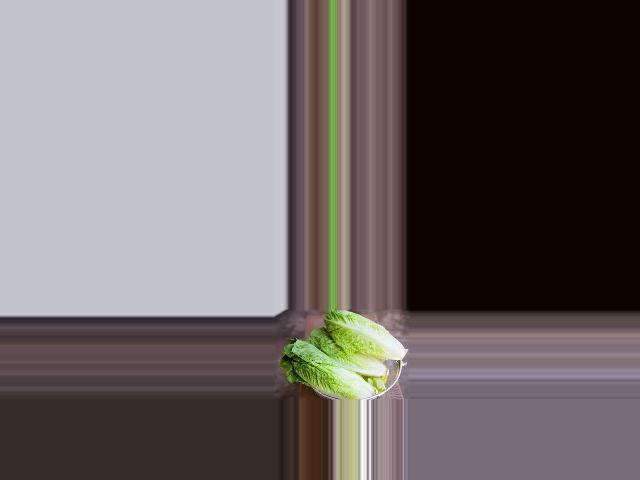lettuce: (283, 337, 384, 400)
